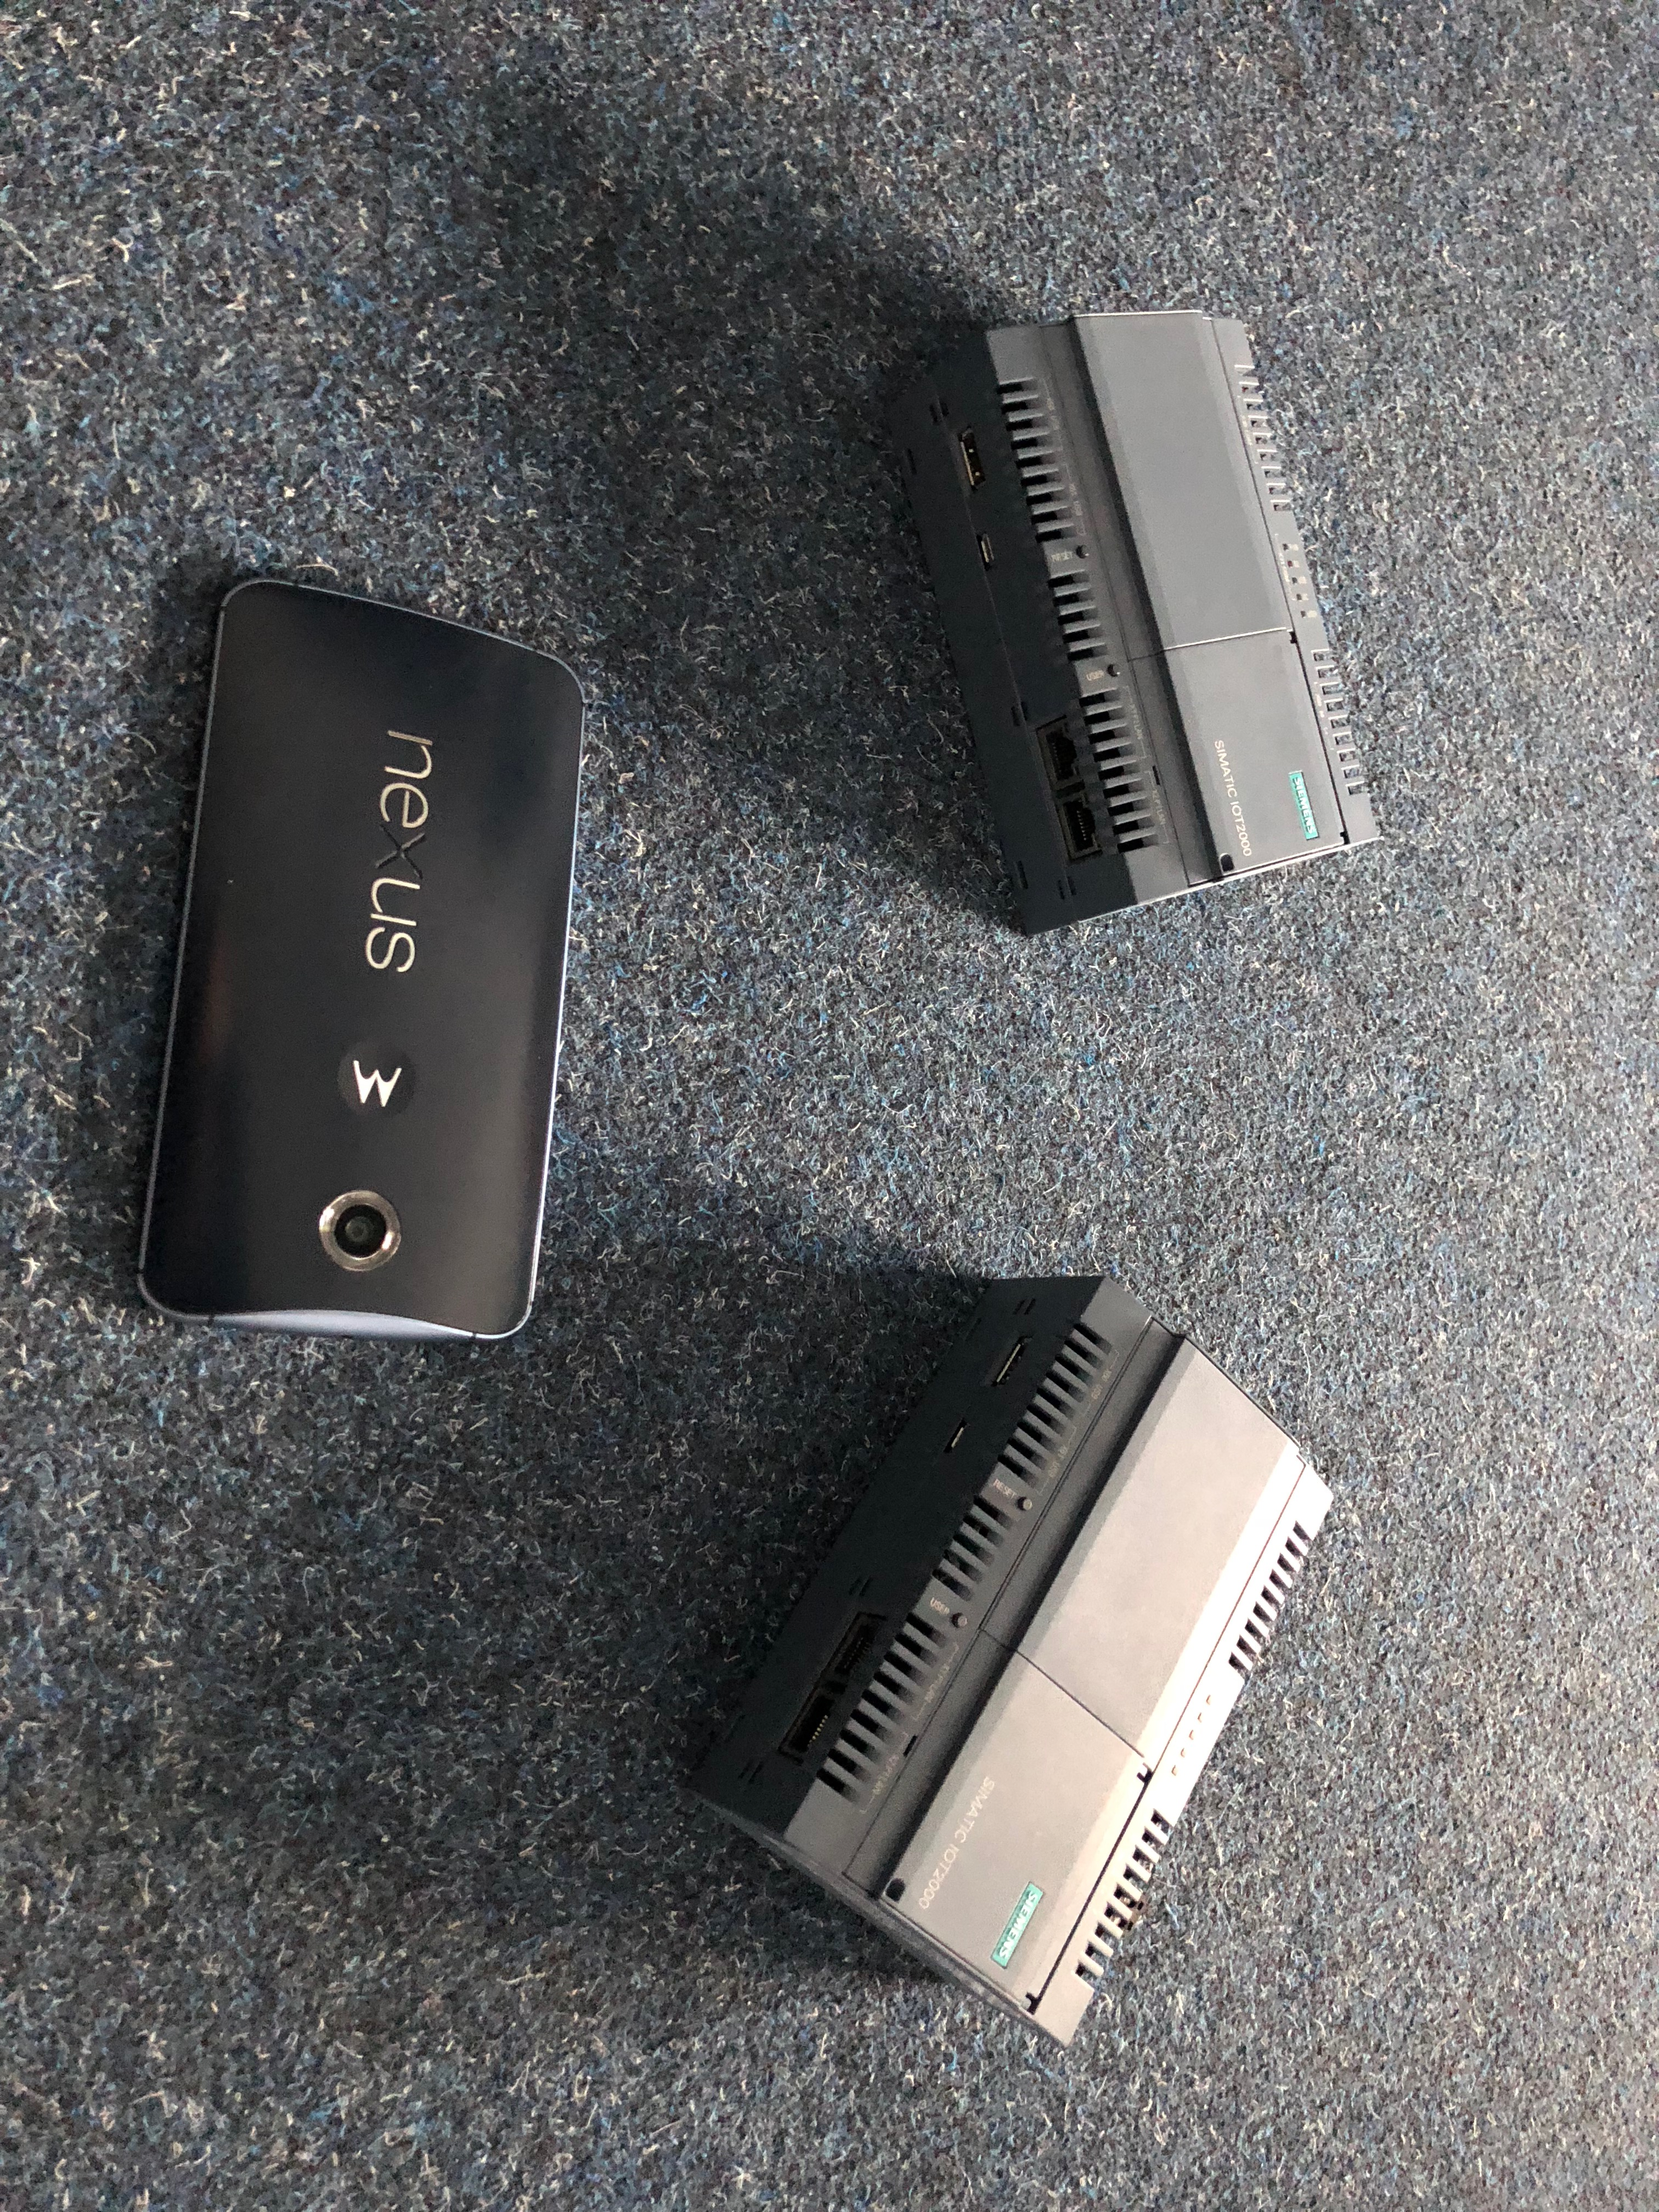device: (681, 1275, 1335, 2050), (884, 310, 1378, 939)
